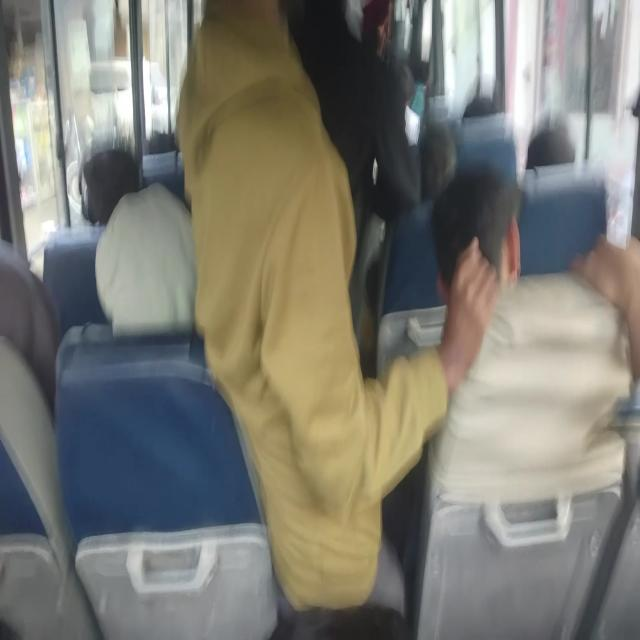person: (194, 32, 359, 496), (219, 0, 414, 258), (244, 570, 489, 640), (121, 210, 232, 314), (0, 246, 49, 418), (78, 149, 170, 229), (446, 204, 502, 288), (401, 118, 452, 199), (458, 89, 502, 137), (147, 125, 190, 171), (526, 121, 568, 165)
